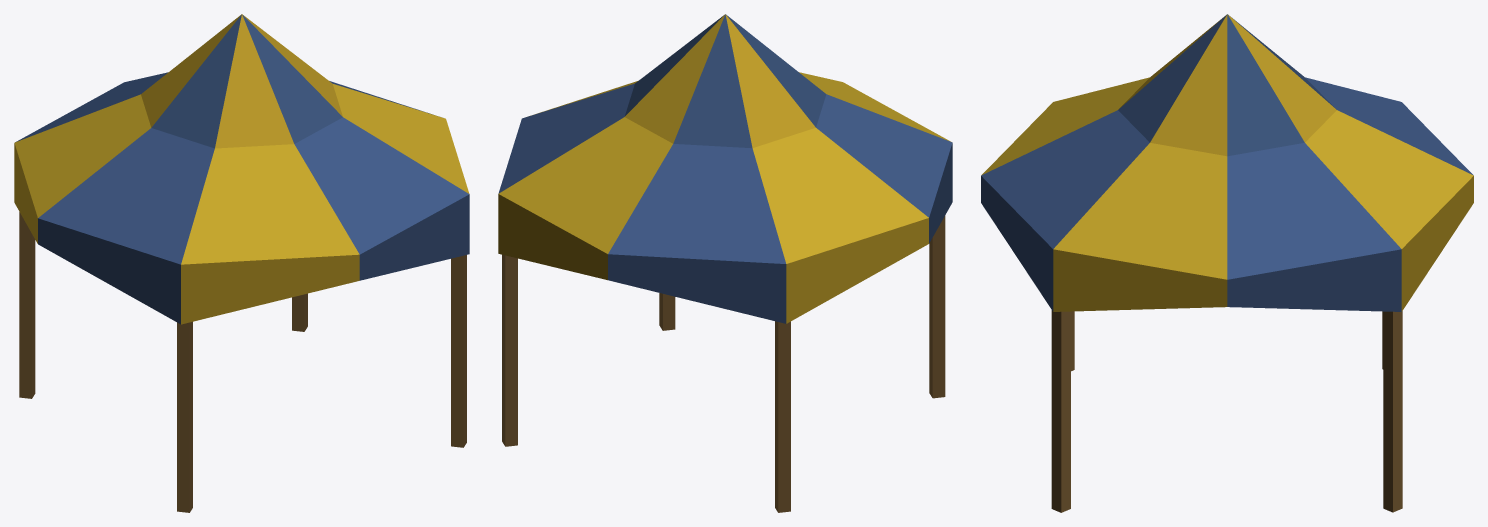
File: Tent_04.gltf
3 views of the same model, side by side, from view 1: azimuth 30°, elevation 25°; view 2: azimuth 150°, elevation 25°; view 3: azimuth 270°, elevation 25° (orthographic). The views are drawn at different scales.
Parts seen in each view (by area): view 1: SF_Bld_Tent_04; view 2: SF_Bld_Tent_04; view 3: SF_Bld_Tent_04.
Part boxes in pixels (bbox=[...]): SF_Bld_Tent_04: bbox=[14, 14, 469, 512]; SF_Bld_Tent_04: bbox=[498, 14, 952, 512]; SF_Bld_Tent_04: bbox=[981, 14, 1473, 512].
Bounding box in the file's own units: 0.0685 × 0.0651 × 0.0685.
1 material, 1 textured.
